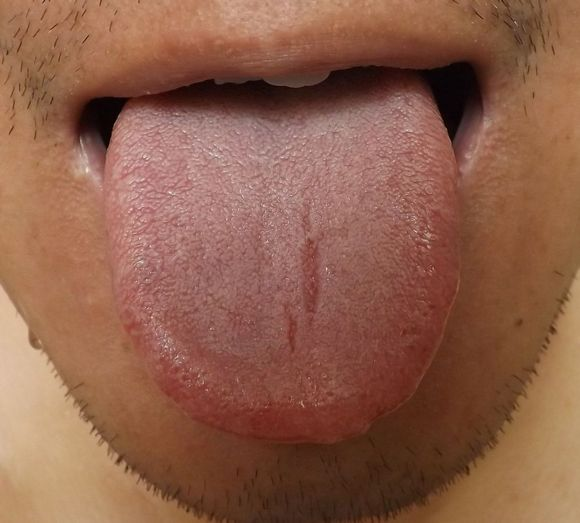baitaishe: (106, 72, 460, 443)
hongshe: (106, 72, 460, 443)
liewenshe: (281, 197, 321, 362)
